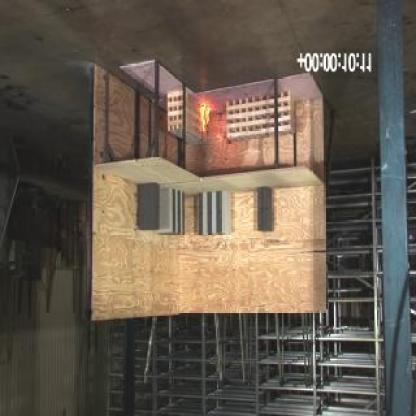Fire: (199, 98, 214, 142)
